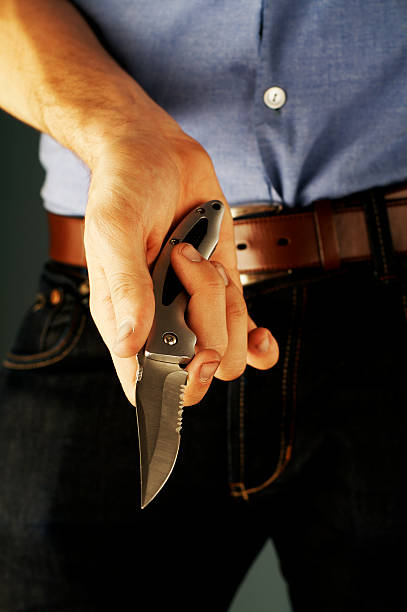knife: (133, 199, 227, 512)
